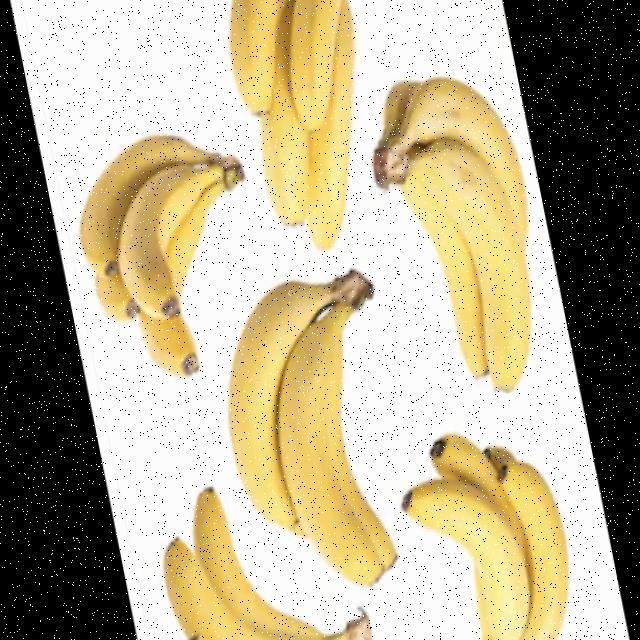god quality banana: (228, 269, 396, 586), (373, 77, 531, 390), (79, 136, 243, 375), (402, 435, 568, 640), (230, 0, 354, 248), (164, 490, 324, 639)
